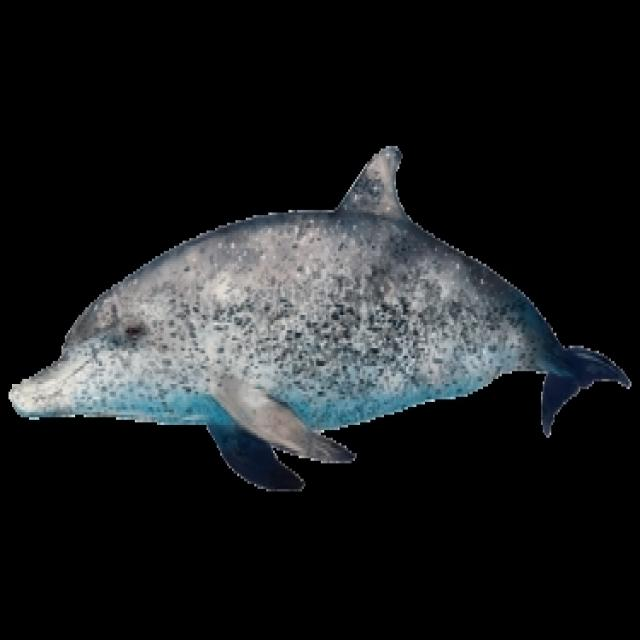penguin: (9, 146, 630, 489)
